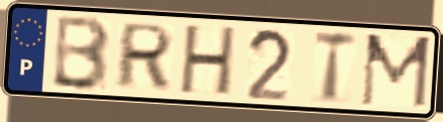2: (243, 26, 298, 102)
B: (49, 14, 113, 93)
H: (176, 23, 240, 99)
M: (357, 32, 434, 111)
R: (112, 21, 177, 90)
T: (311, 28, 359, 106)
